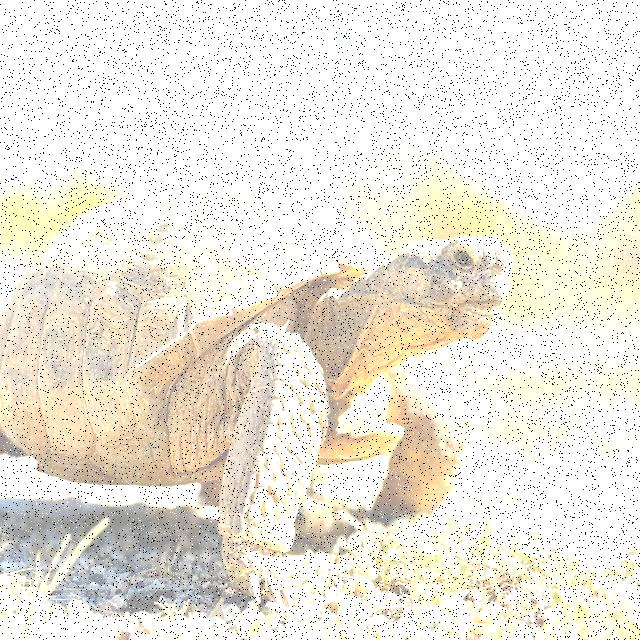tortoise: (0, 173, 516, 573)
